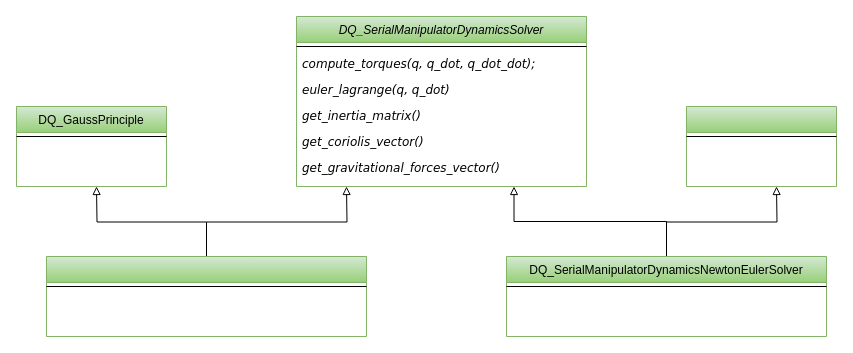
Image size: 853x353. Some labels were removed from this diagram. Here are the shapes that lost their labels. From the top down, the centre of each, then its label:
At point (761, 146): "DQ_NewtonEuler".
At point (206, 296): "DQ_SerialManipulatorDynamicsGaussPrincipleSolver".
